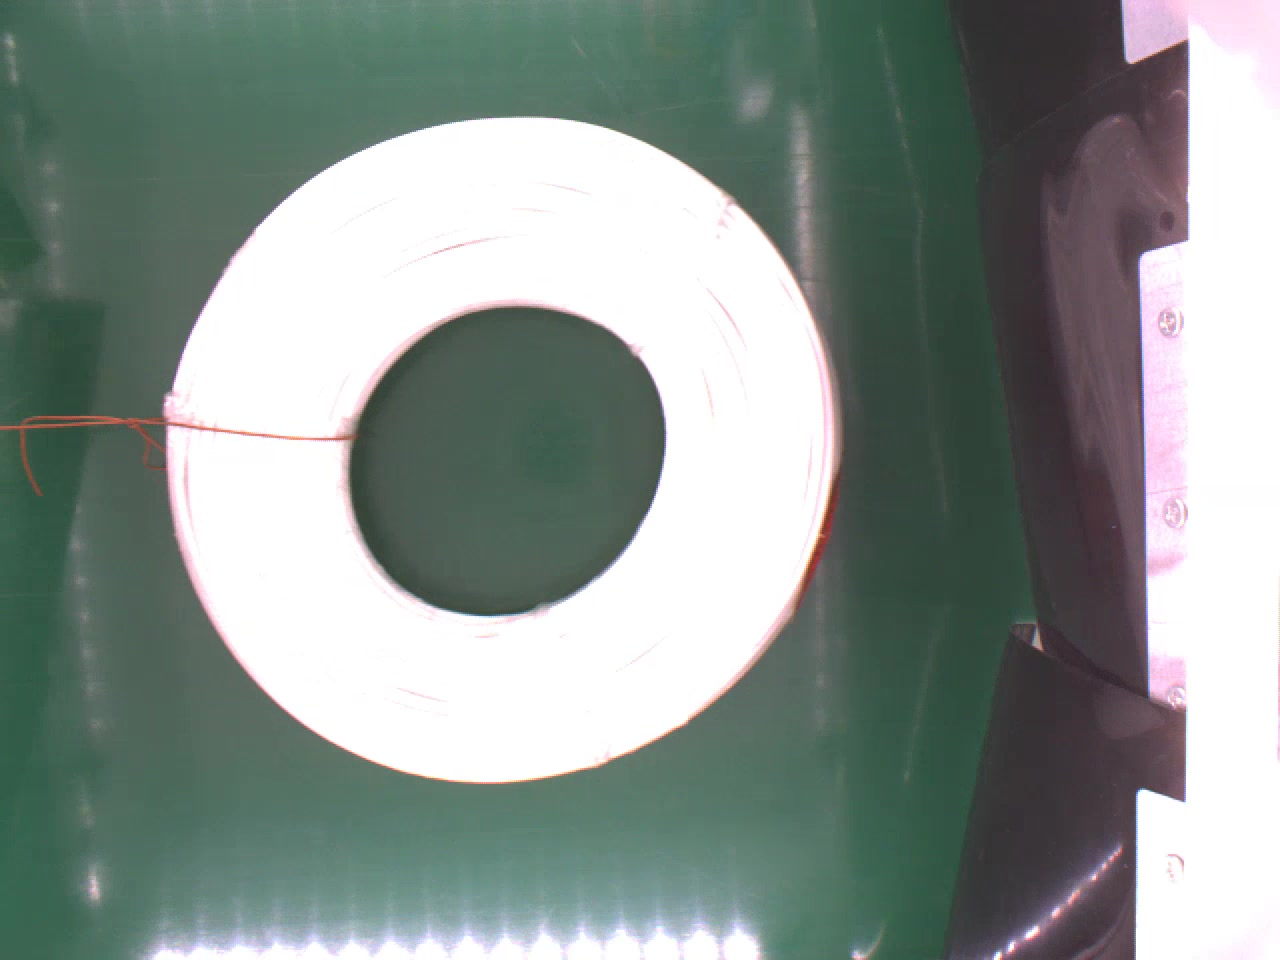white: (166, 106, 847, 778)
